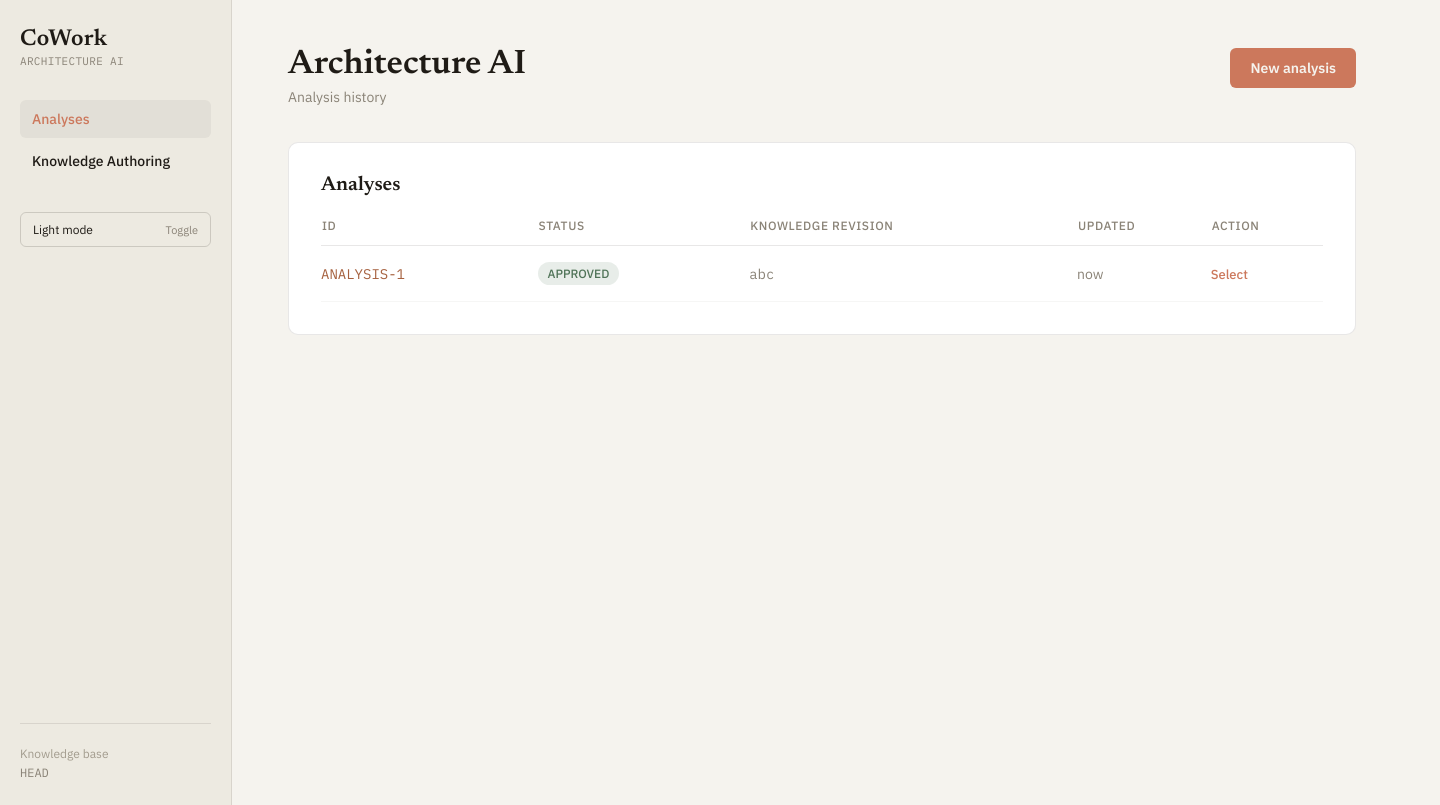
Test case: Web DOM review flow › keeps the detail visible after a network failure
The image size is (1440, 805).
Click the button "Select".
click(1229, 274)  # box [1211,266,1248,282]
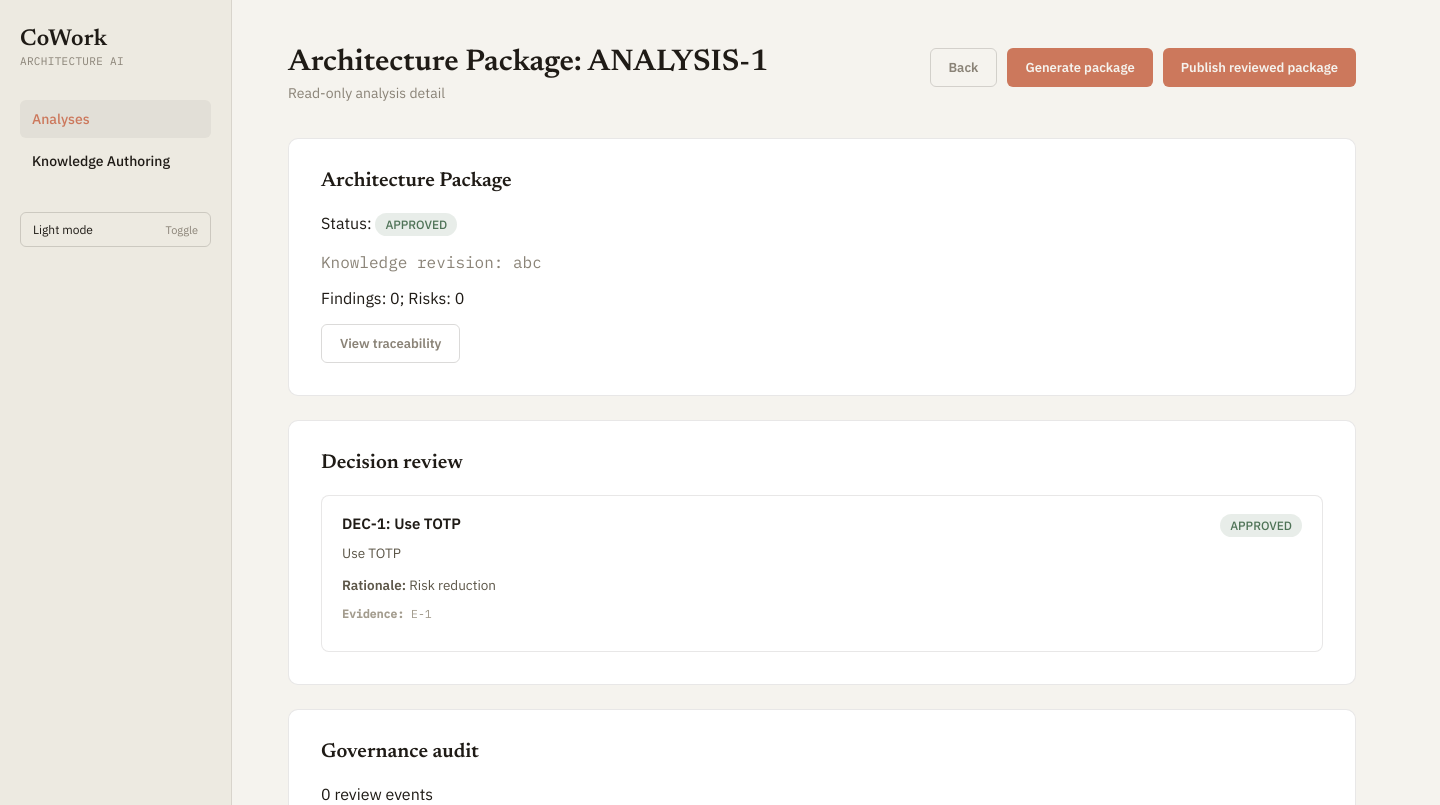
expect the heading "Architecture Package: ANALYSIS-1" is shown: met, box [288,48,768,78]
Click the button "Publish reviewed package".
click(1259, 68)  # box [1163,48,1356,87]
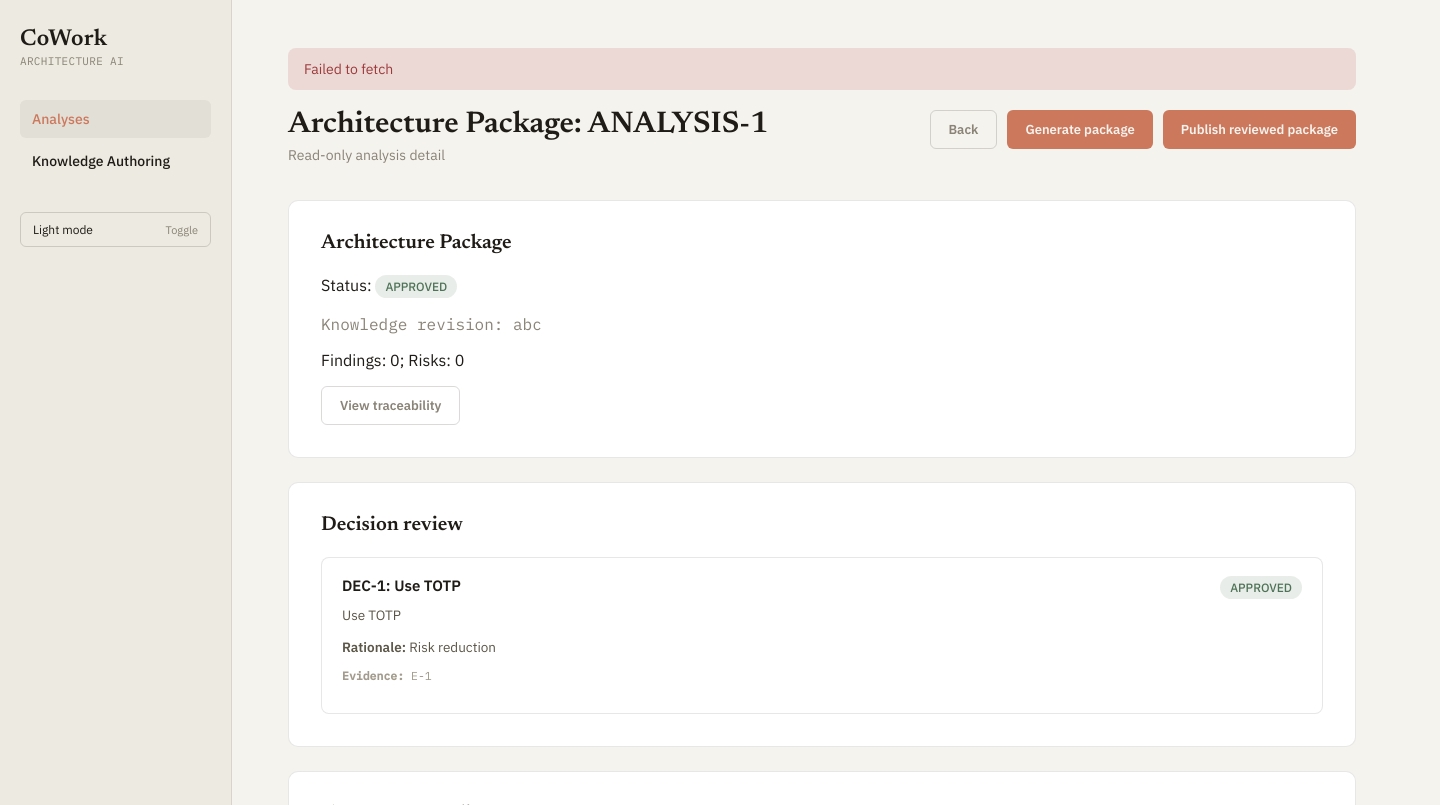
expect the heading "Architecture Package: ANALYSIS-1" is shown: met, box [288,110,768,140]
expect the message reads "Failed to fetch": met, box [304,60,393,78]
